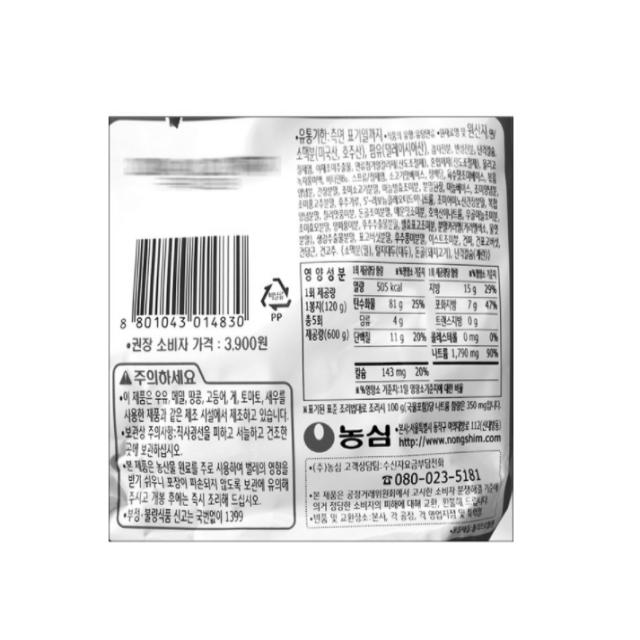Nutrition Label: (295, 261, 519, 406)
